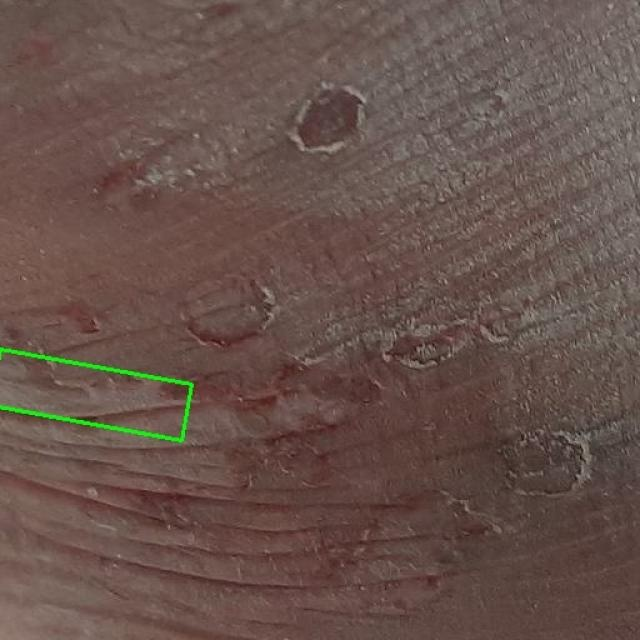Contact Dermatitis: (0, 347, 193, 441)
